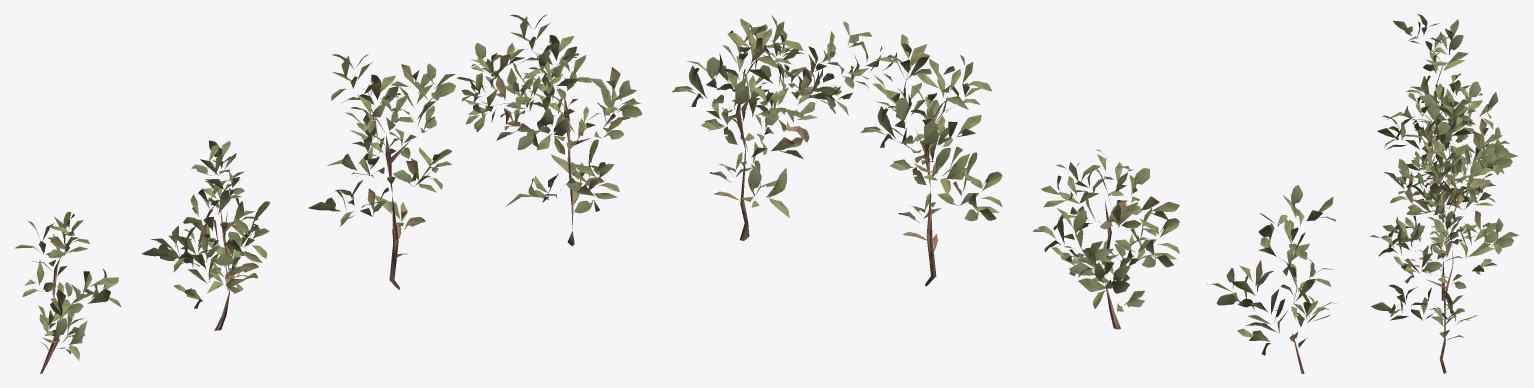
The model's file is shrub_04.glb.
3 renders of one model, left to right at view 1: azimuth 30°, elevation 25°; view 2: azimuth 150°, elevation 25°; view 3: azimuth 270°, elevation 25°, orthographic. The views are drawn at different scales.
Parts seen in each view (by area): view 1: shrub_04_lod0; view 2: shrub_04_lod0; view 3: shrub_04_lod0.
Boxes of the visible parts, x1,y1,x2,y2 form: shrub_04_lod0: (15,14,642,373); shrub_04_lod0: (672,15,1337,373); shrub_04_lod0: (1370,14,1519,373).
Size of what is drawn, in the model's own units: 0.5837 by 0.2185 by 0.1461.
1 material, 1 textured.
